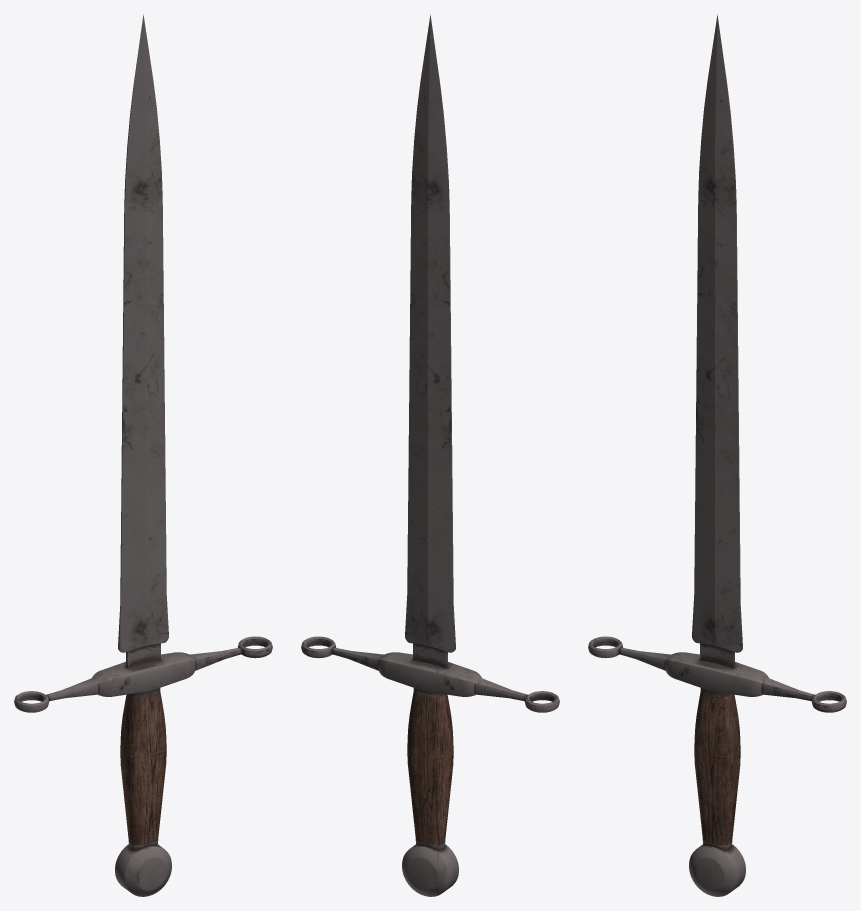
The model's file is Sword.gltf.
3 views of the same model, side by side, from view 1: azimuth 30°, elevation 25°; view 2: azimuth 150°, elevation 25°; view 3: azimuth 330°, elevation 25° (orthographic).
Parts seen in each view (by area): view 1: SM_Sword_01; view 2: SM_Sword_01; view 3: SM_Sword_01.
Boxes of the visible parts, x1,y1,x2,y2 form: SM_Sword_01: (14,14,272,896); SM_Sword_01: (301,14,559,896); SM_Sword_01: (588,14,846,896).
Size of the model in its own units: 0.3916 by 1.29 by 0.047.
1 material, 1 textured.
